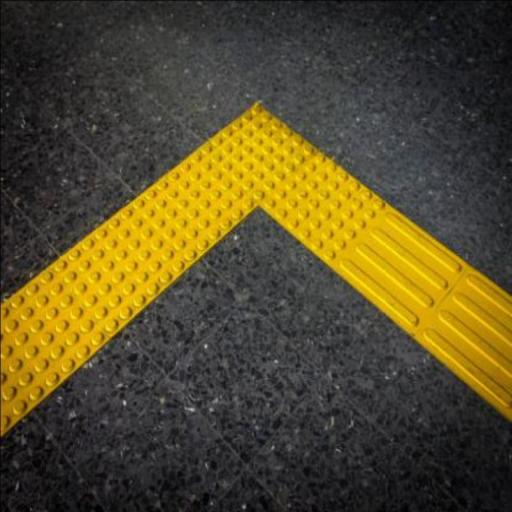dot: (0, 258, 121, 389), (61, 204, 190, 325), (126, 154, 260, 267), (259, 151, 390, 263), (189, 100, 323, 202)
line: (331, 203, 473, 336), (411, 264, 511, 423)
